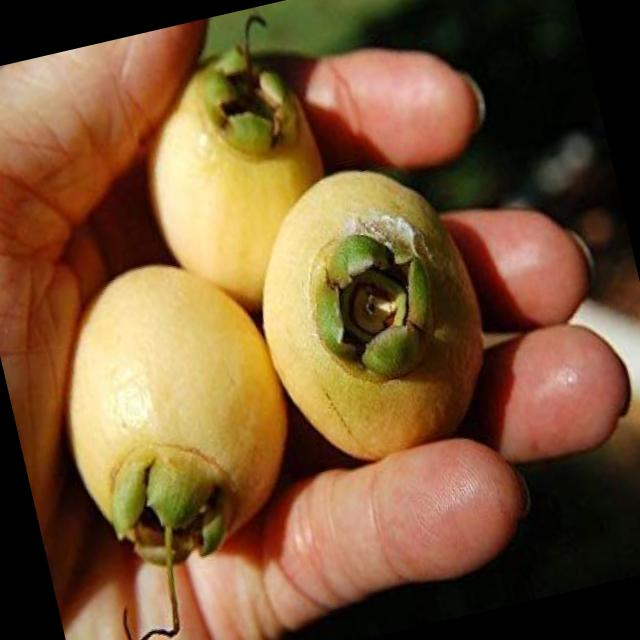Medicinal-Rose Apple: (0, 0, 520, 553)
